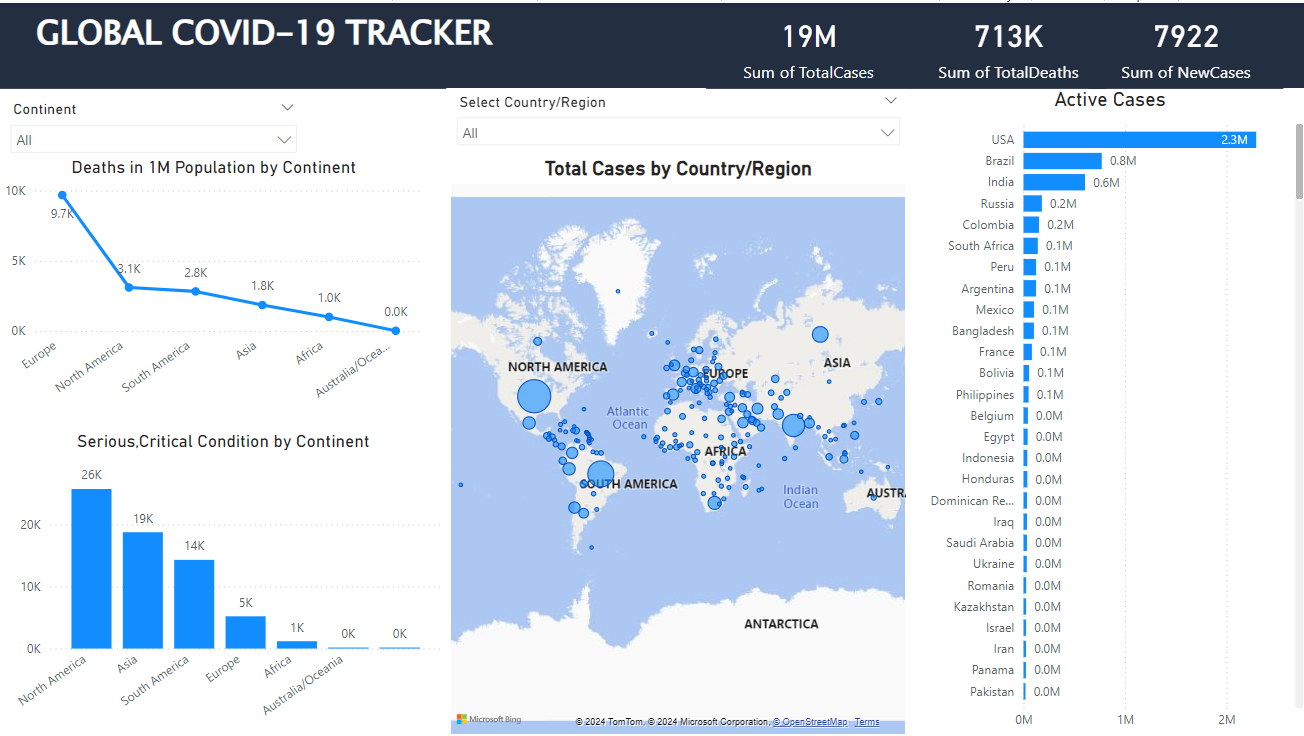

This screenshot's page, from the dashboard's own definition file:
{"tool":"powerbi","page":{"name":"Page 1","canvas":[1280,720],"ordinal":0},"visuals":[{"type":"card","fields":{"Values":["Sum(worldometer_data.TotalDeaths)"]},"box":[509.5,225.2,217.8,107.1],"z":0},{"type":"textbox","box":[0,0,1280,83.7],"z":1000},{"type":"clusteredBarChart","title":"Active Cases","fields":{"Category":["worldometer_data.Country/Region"],"Y":["Sum(worldometer_data.ActiveCases)"]},"box":[891.1,83.7,388.9,636.3],"z":2000},{"type":"lineChart","title":"Deaths in 1M Population by Continent","fields":{"Y":["Sum(worldometer_data.Deaths/1M pop)"],"Category":["worldometer_data.Continent"]},"box":[0,150.2,418.5,248.6],"z":3000},{"type":"columnChart","title":" Serious,Critical Condition by Continent","fields":{"Category":["worldometer_data.Continent"],"Y":["Sum(worldometer_data.Serious,Critical)"]},"box":[0,418.5,436.9,301.5],"z":4000},{"type":"map","title":"Total Cases by Country/Region","fields":{"Category":["worldometer_data.Country/Region"],"Size":["Sum(worldometer_data.TotalCases)"]},"box":[436.9,150.2,454.2,569.8],"z":5000},{"type":"slicer","fields":{"Values":["worldometer_data.Country/Region"]},"box":[436.9,83.7,454.2,66.5],"z":6000},{"type":"slicer","fields":{"Values":["worldometer_data.Continent"]},"box":[0,91.1,300.3,59.1],"z":7000},{"type":"card","fields":{"Values":["Sum(worldometer_data.TotalCases)"]},"box":[690.5,0,200.6,83.7],"z":8000},{"type":"card","fields":{"Values":["Sum(worldometer_data.TotalDeaths)"]},"box":[891.1,0,190.8,83.7],"z":8001},{"type":"card","fields":{"Values":["Sum(worldometer_data.NewCases)"]},"box":[1064.6,0,190.8,83.7],"z":8002}]}

Visuals, with their boxes in screenshot pixels (x1, y1, x2, y2), scaled from the page's 1280x720 canvas onto the 1304x736 screenshot:
card - Sum(worldometer_data.TotalDeaths): rect(519, 230, 741, 340)
textbox: rect(0, 0, 1303, 86)
"Active Cases" clusteredBarChart: rect(908, 86, 1303, 735)
"Deaths in 1M Population by Continent" lineChart: rect(0, 154, 426, 408)
" Serious,Critical Condition by Continent" columnChart: rect(0, 428, 445, 735)
"Total Cases by Country/Region" map: rect(445, 154, 908, 735)
slicer - worldometer_data.Country/Region: rect(445, 86, 908, 154)
slicer - worldometer_data.Continent: rect(0, 93, 306, 154)
card - Sum(worldometer_data.TotalCases): rect(703, 0, 908, 86)
card - Sum(worldometer_data.TotalDeaths): rect(908, 0, 1102, 86)
card - Sum(worldometer_data.NewCases): rect(1085, 0, 1279, 86)
